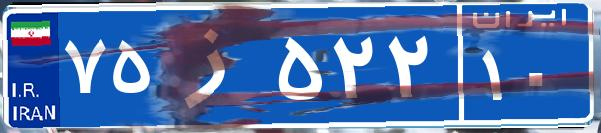0: (525, 38, 570, 115)
1: (475, 38, 525, 113)
2: (385, 28, 445, 110), (330, 28, 385, 110)
5: (273, 28, 330, 110), (110, 28, 158, 105)
7: (57, 26, 110, 107)
ز: (158, 15, 273, 115)
